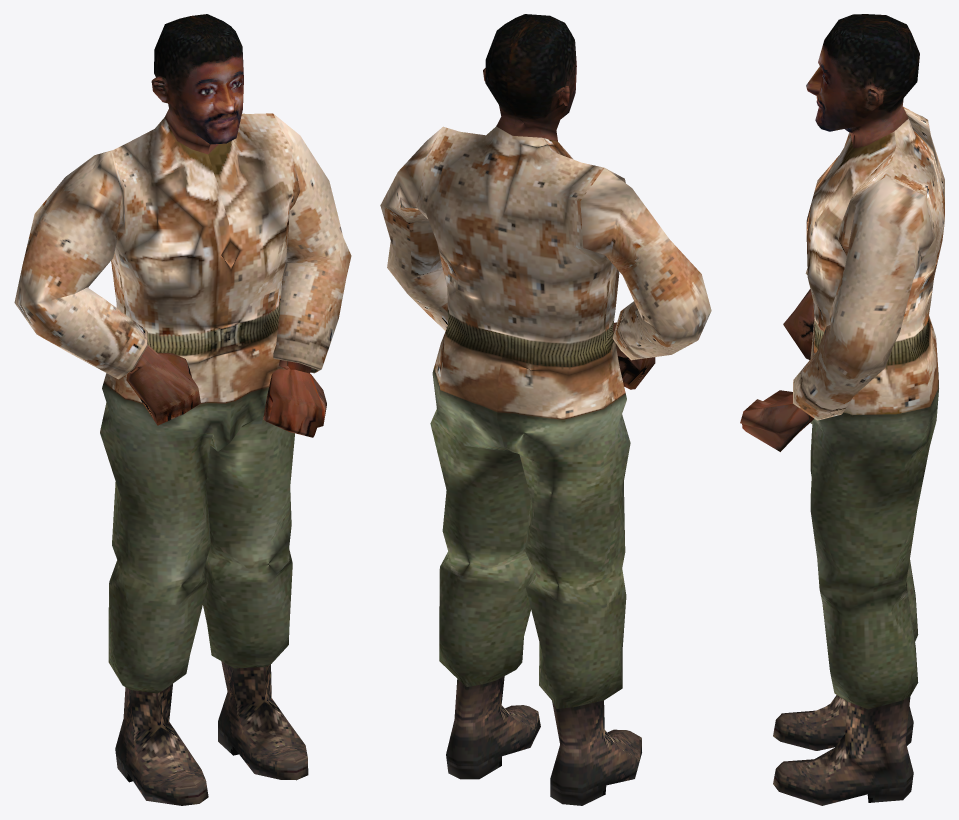
File: USMISSILEEXPERT.glb
3 renders of one model, left to right at view 1: azimuth 30°, elevation 25°; view 2: azimuth 150°, elevation 25°; view 3: azimuth 270°, elevation 25°, orthographic.
Parts seen in each view (by area): view 1: NEWSKIN; view 2: NEWSKIN; view 3: NEWSKIN.
Boxes of the visible parts, x1=… form: NEWSKIN: x1=14, y1=14, x2=351, y2=805; NEWSKIN: x1=380, y1=14, x2=711, y2=805; NEWSKIN: x1=740, y1=14, x2=944, y2=805.
Size of the model in its own units: 0.7907 by 1.76 by 0.4384.
1 material, 1 textured.
